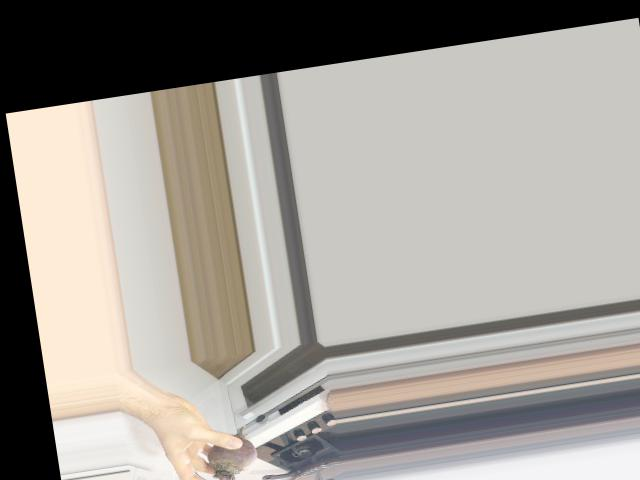beet: (190, 423, 260, 480)
